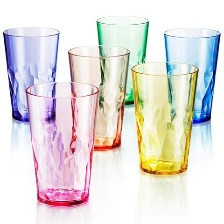glass: (20, 75, 103, 213), (127, 57, 201, 179), (60, 40, 132, 154), (0, 22, 65, 124), (160, 23, 223, 126), (90, 10, 153, 110)
